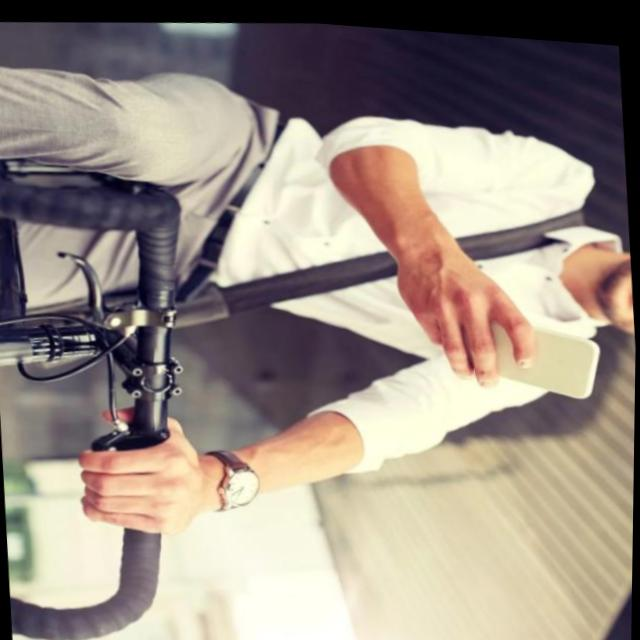USING_MOBILE: (314, 90, 615, 414)
